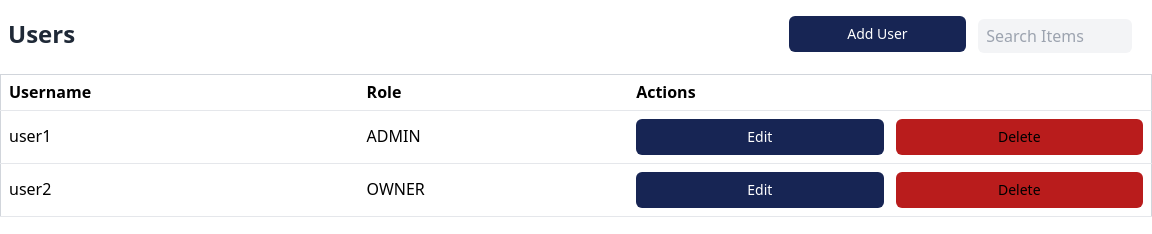
UserList › should filter tasks based on search term
Type "user1" into the field with placeholder "Search Items" at (1055, 36), box [978,19,1132,53]
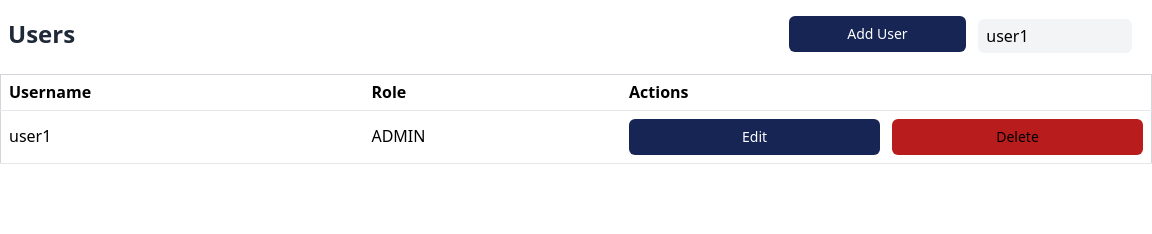
Expected: the text "user2" is gone
